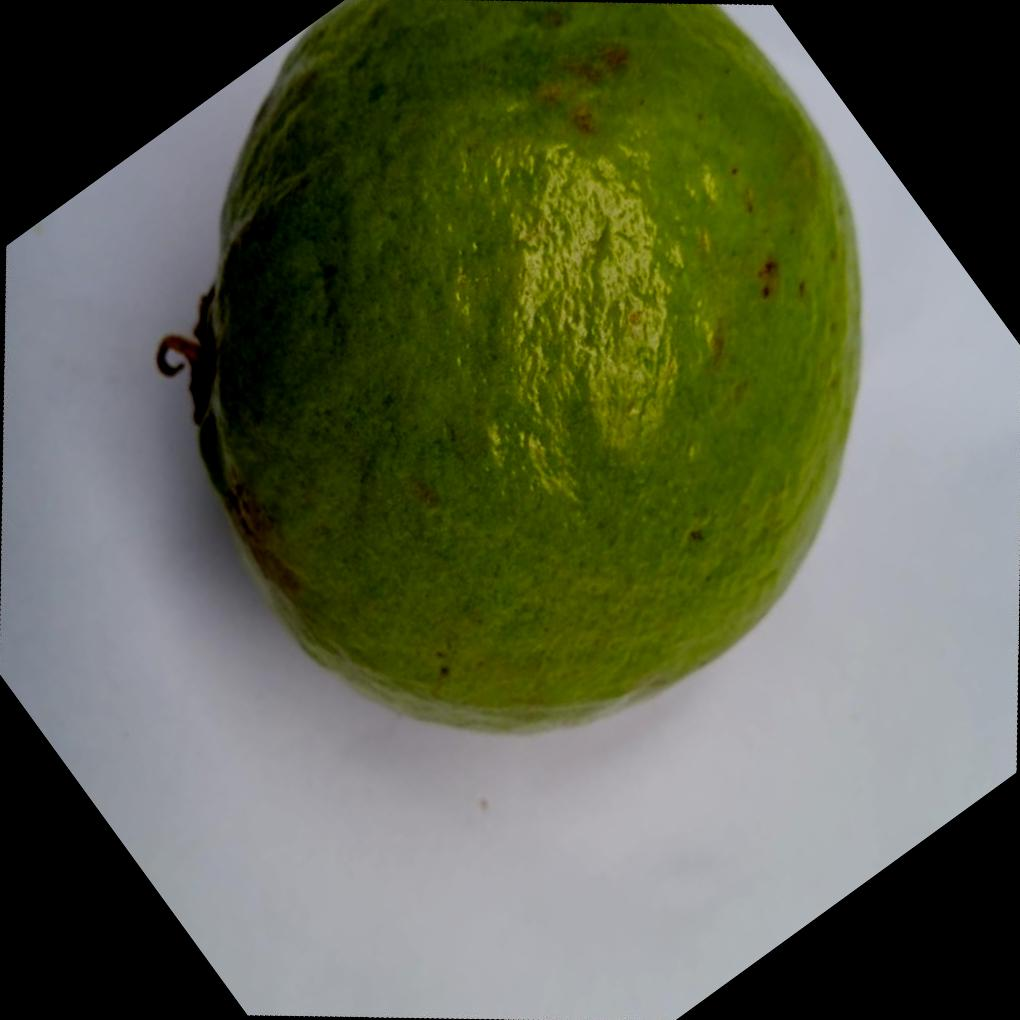FreshGuava: (184, 0, 862, 738)
